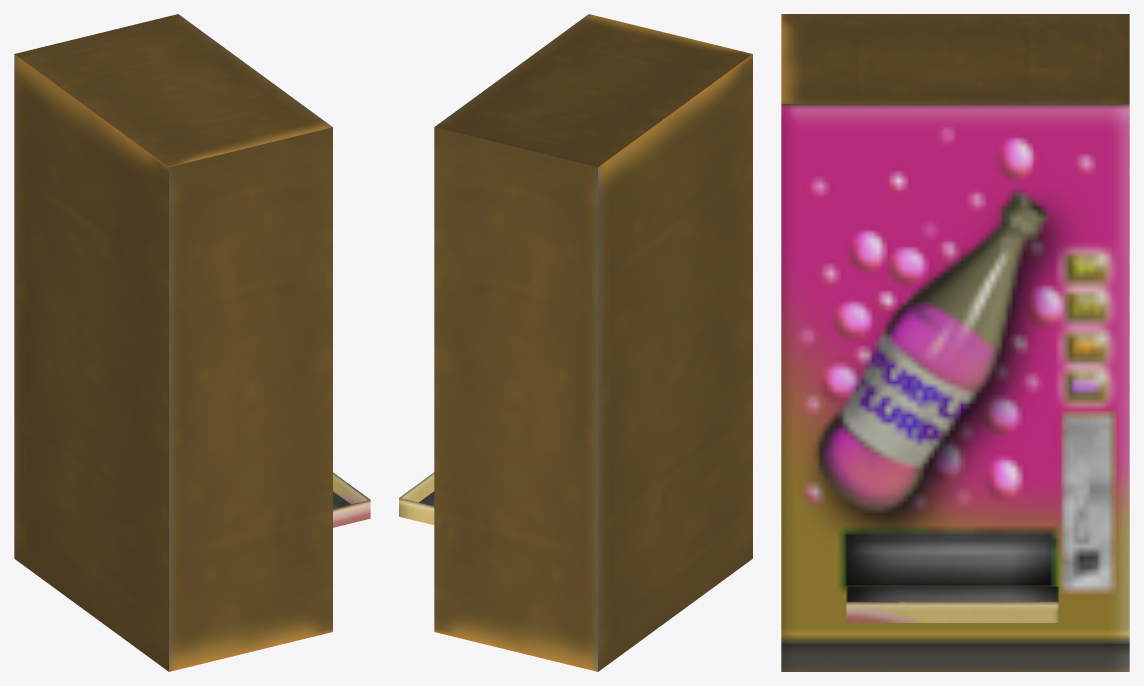
Rendered from flurpmachine.glb.
3 renders of one model, left to right at view 1: azimuth 30°, elevation 25°; view 2: azimuth 150°, elevation 25°; view 3: azimuth 270°, elevation 25°, orthographic. The views are drawn at different scales.
Parts seen in each view (by area): view 1: flurpmachine; view 2: flurpmachine; view 3: flurpmachine.
Boxes of the visible parts, left/top/right/bottom form: flurpmachine: left=14, top=14, right=370, bottom=671; flurpmachine: left=399, top=14, right=752, bottom=671; flurpmachine: left=781, top=14, right=1129, bottom=671.
Bounding box in the file's own units: 204 × 427 × 237.
2 materials, 2 textured.
